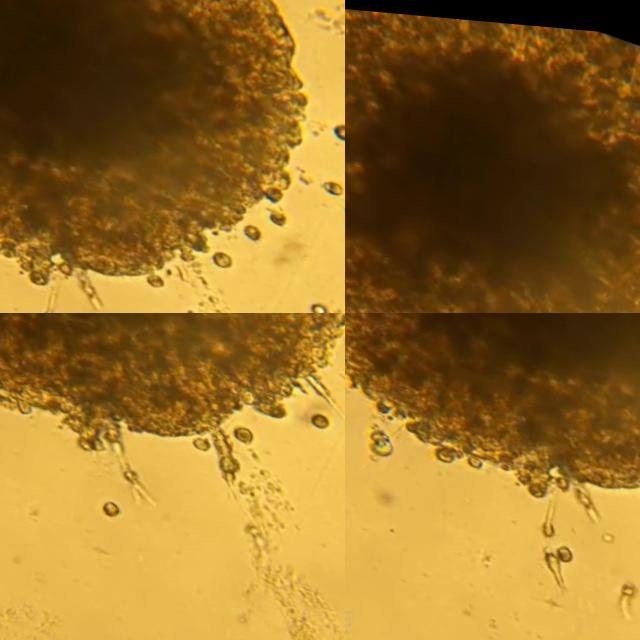cell: (541, 543, 560, 591), (368, 424, 394, 456), (539, 492, 555, 530), (229, 416, 253, 438), (208, 242, 232, 262), (553, 539, 572, 559), (242, 215, 263, 232), (322, 170, 342, 187), (267, 201, 285, 219), (307, 291, 326, 307), (309, 404, 326, 420), (99, 497, 116, 513), (191, 429, 207, 444), (619, 578, 633, 595), (144, 268, 162, 281), (333, 114, 345, 133), (41, 301, 51, 313)
tumor_mass: (345, 7, 640, 313), (345, 313, 640, 521)
